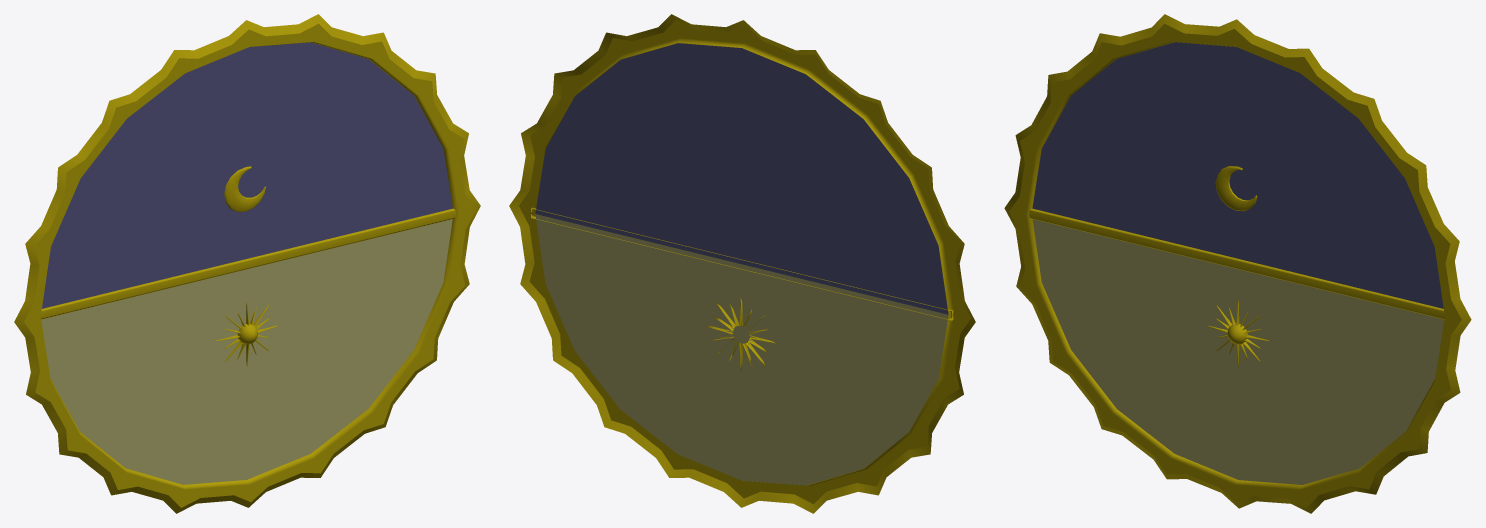
File: diaNit02.fbx
The picture shows the model from 3 angles, left to right: view 1: azimuth 30°, elevation 25°; view 2: azimuth 150°, elevation 25°; view 3: azimuth 330°, elevation 25°; orthographic projection.
Visible parts, largest first — view 1: diaNit02; view 2: diaNit02; view 3: diaNit02.
Boxes of the visible parts, x1,y1,x2,y2 form: diaNit02: (14, 14, 480, 513); diaNit02: (509, 14, 975, 513); diaNit02: (1004, 14, 1471, 513).
Bounding box in the file's own units: 78.77 × 78.77 × 2.04.
